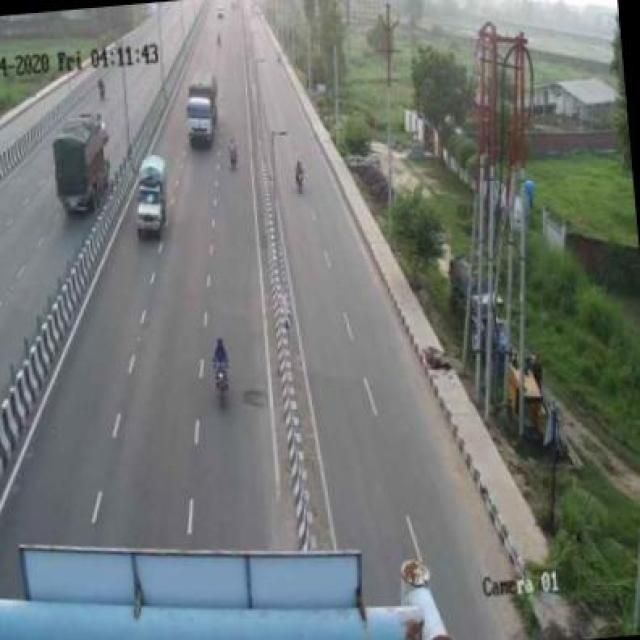car: (133, 154, 184, 247)
